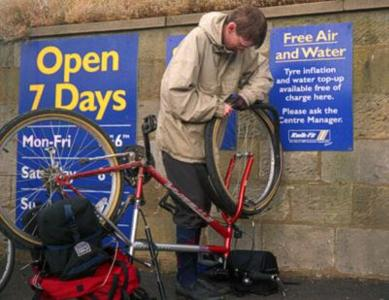person: (157, 6, 275, 300)
